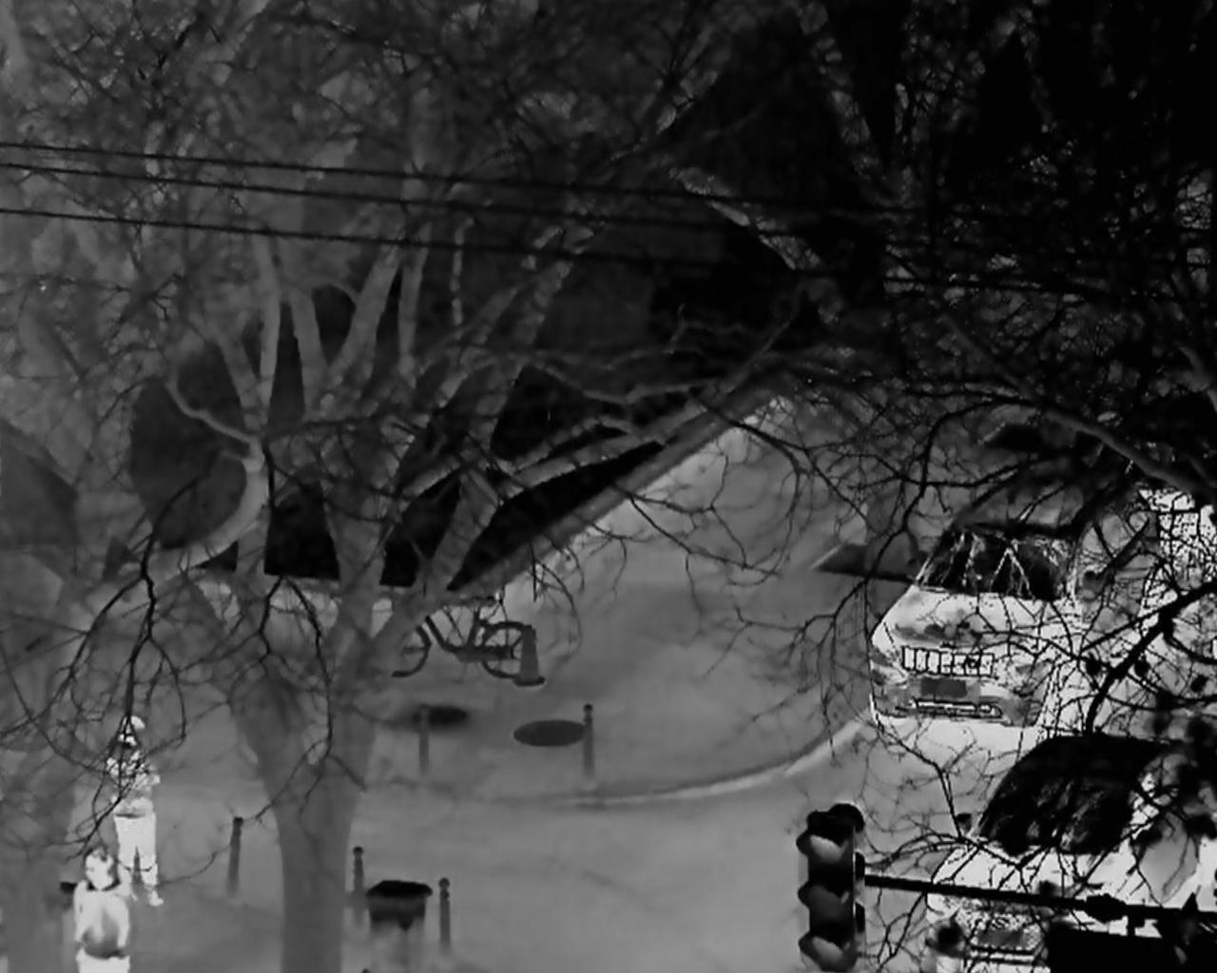person: (109, 714, 167, 907), (73, 843, 131, 973)
